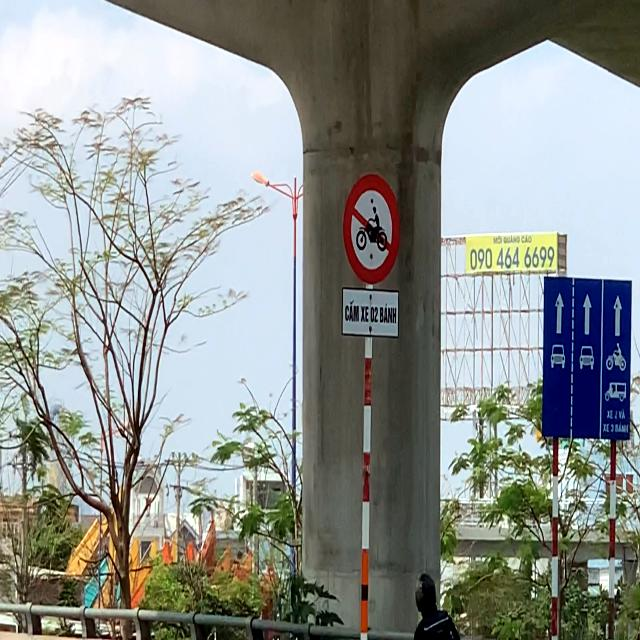P.104: (341, 171, 402, 287)
